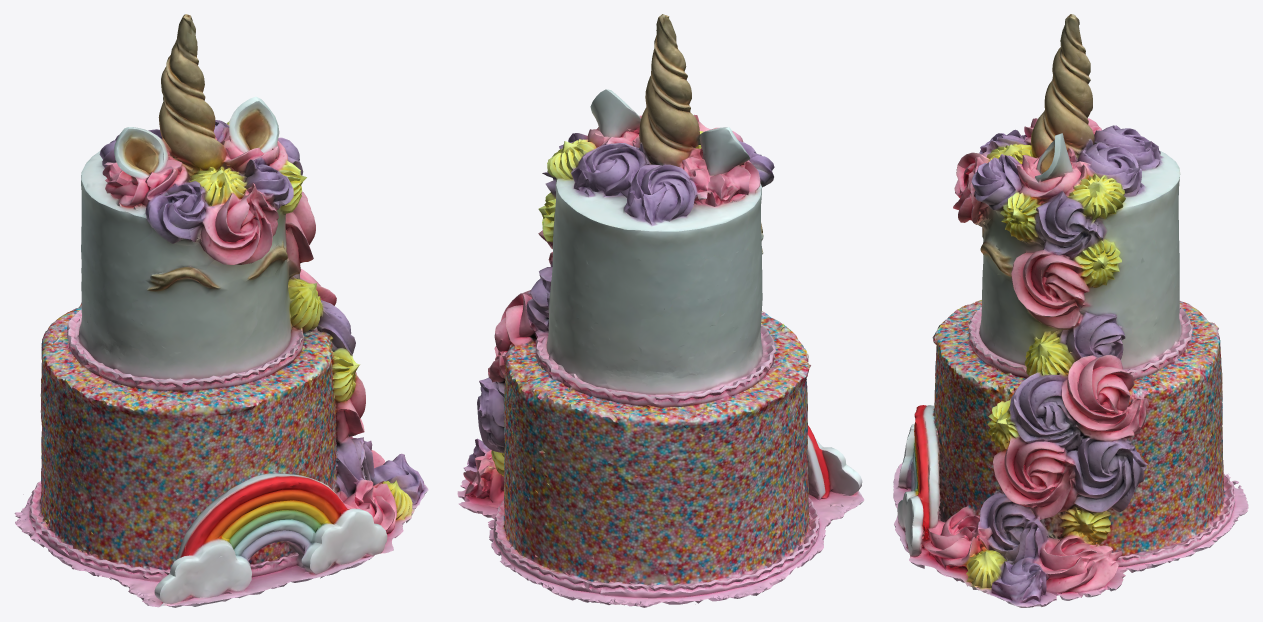
File: tortaunicornio.glb
3 views of the same model, side by side, from view 1: azimuth 30°, elevation 25°; view 2: azimuth 150°, elevation 25°; view 3: azimuth 270°, elevation 25° (orthographic). The views are drawn at different scales.
Visible parts, largest first — view 1: LOD1-Unicorn_Cake_-_tiered001_LOD1_Unicorn_Cake___tiered_0; view 2: LOD1-Unicorn_Cake_-_tiered001_LOD1_Unicorn_Cake___tiered_0; view 3: LOD1-Unicorn_Cake_-_tiered001_LOD1_Unicorn_Cake___tiered_0.
Boxes of the visible parts, bbox=[...] form: LOD1-Unicorn_Cake_-_tiered001_LOD1_Unicorn_Cake___tiered_0: bbox=[14, 14, 428, 607]; LOD1-Unicorn_Cake_-_tiered001_LOD1_Unicorn_Cake___tiered_0: bbox=[457, 14, 864, 607]; LOD1-Unicorn_Cake_-_tiered001_LOD1_Unicorn_Cake___tiered_0: bbox=[893, 14, 1248, 607].
Bounding box in the file's own units: 1.52 × 2.1 × 1.37.
Materials: 1 (1 with a texture image).
